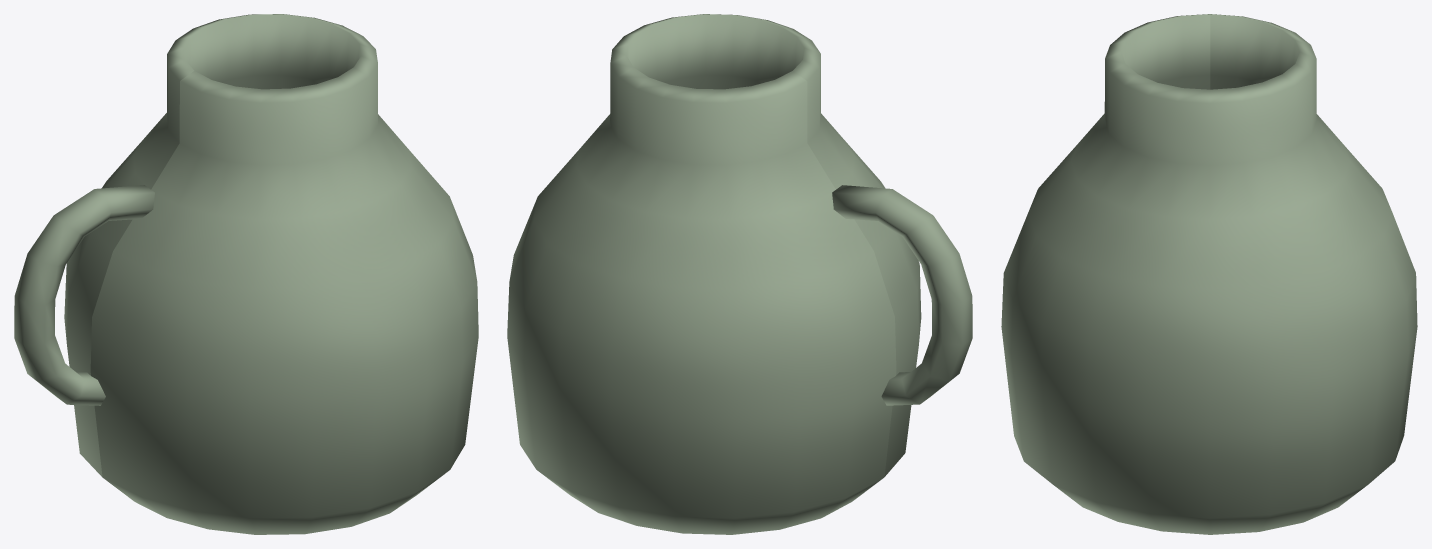
Rendered from quality-flower-jug-v11.glb.
The picture shows the model from 3 angles, left to right: view 1: azimuth 30°, elevation 25°; view 2: azimuth 150°, elevation 25°; view 3: azimuth 270°, elevation 25°; orthographic projection.
Visible parts, largest first — view 1: quality-flower-jug-v11; view 2: quality-flower-jug-v11; view 3: quality-flower-jug-v11.
Boxes of the visible parts, bbox=[...] form: quality-flower-jug-v11: bbox=[14, 14, 478, 534]; quality-flower-jug-v11: bbox=[507, 14, 972, 534]; quality-flower-jug-v11: bbox=[1001, 14, 1417, 534].
Bounding box in the file's own units: 0.4024 × 0.3708 × 0.336.
Materials: 1 (1 with a texture image).
